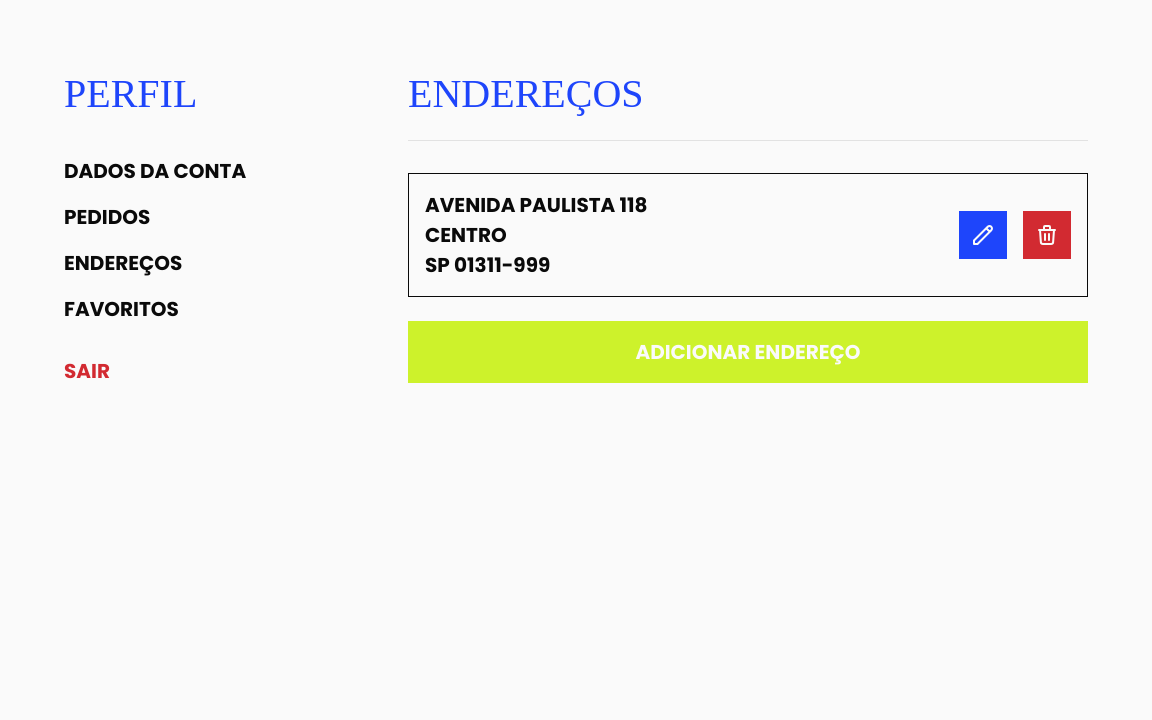
Addresses Page › exibe modal de confirmacao ao clicar no icone de apagar o endereco
Step 1. Click the button named "Apagar" → [1047, 235], box left=1023, top=211, right=1071, bottom=259
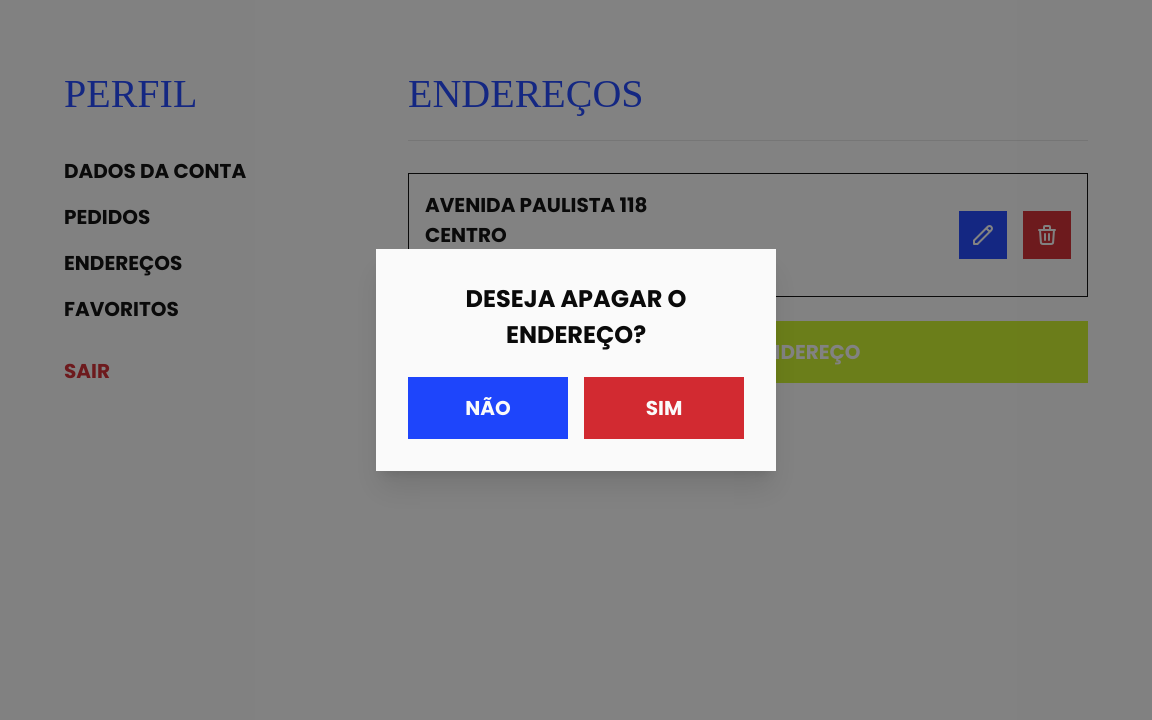
Check: the heading "Deseja apagar o endereço?" is shown, box left=466, top=282, right=686, bottom=351
